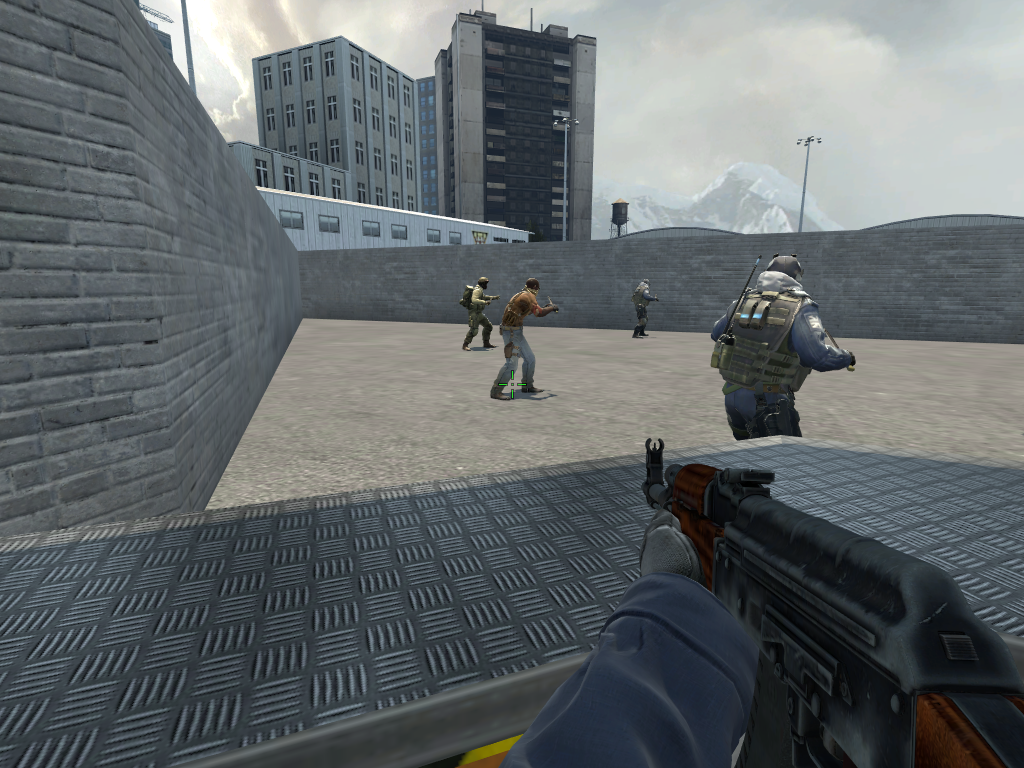ct head: (756, 246, 814, 301), (471, 273, 493, 294), (637, 275, 653, 289)
tr head: (521, 278, 544, 298)
